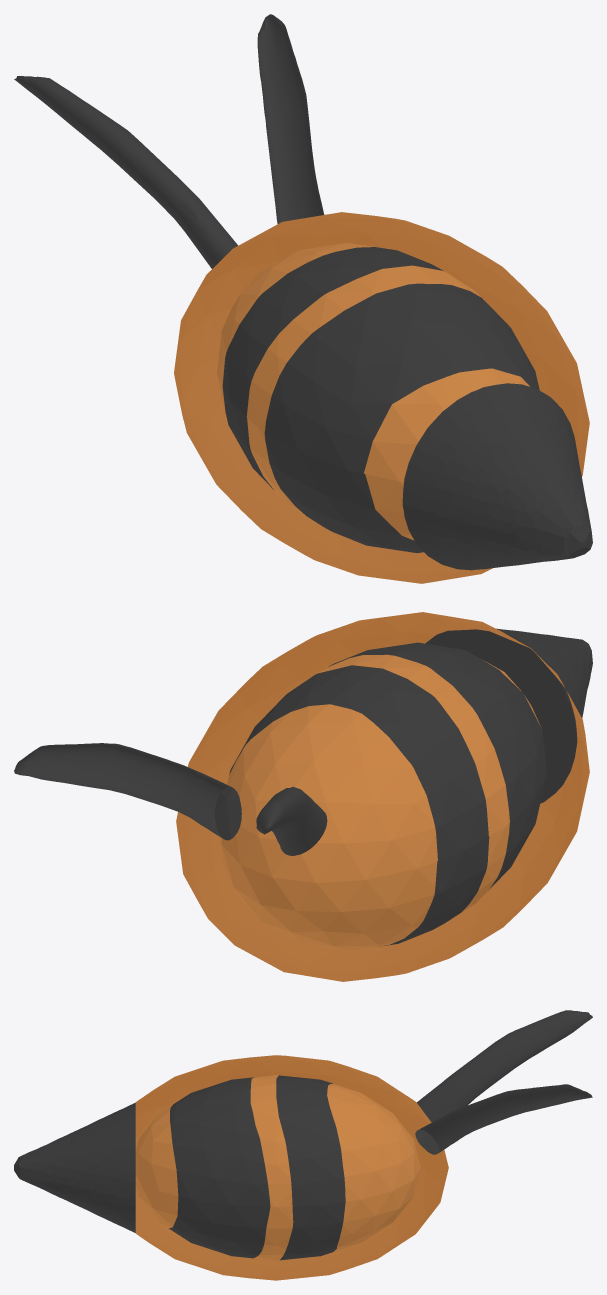
The model's file is wasp.glb.
3 views of the same model, one above another, from view 1: azimuth 30°, elevation 25°; view 2: azimuth 150°, elevation 25°; view 3: azimuth 270°, elevation 25° (orthographic). The views are drawn at different scales.
Parts seen in each view (by area): view 1: Icosphere.001, Icosphere, Cone, Cone.001, Cone.002; view 2: Icosphere.001, Icosphere, Cone, Cone.001, Cone.002; view 3: Icosphere.001, Icosphere, Cone, Cone.002, Cone.001.
Boxes of the visible parts, bbox=[...] form: Icosphere.001: bbox=[217, 242, 539, 553]; Icosphere: bbox=[174, 212, 589, 583]; Cone: bbox=[402, 383, 592, 570]; Cone.001: bbox=[257, 14, 324, 223]; Cone.002: bbox=[14, 76, 237, 268]; Icosphere.001: bbox=[220, 642, 546, 951]; Icosphere: bbox=[176, 612, 589, 981]; Cone: bbox=[425, 628, 592, 803]; Cone.001: bbox=[14, 743, 241, 840]; Cone.002: bbox=[256, 786, 327, 855]; Icosphere.001: bbox=[135, 1075, 420, 1260]; Icosphere: bbox=[135, 1055, 448, 1280]; Cone: bbox=[14, 1102, 135, 1232]; Cone.002: bbox=[416, 1010, 592, 1122]; Cone.001: bbox=[415, 1084, 592, 1154].
Bounding box in the file's own units: 2.29 × 2.3 × 5.47.
